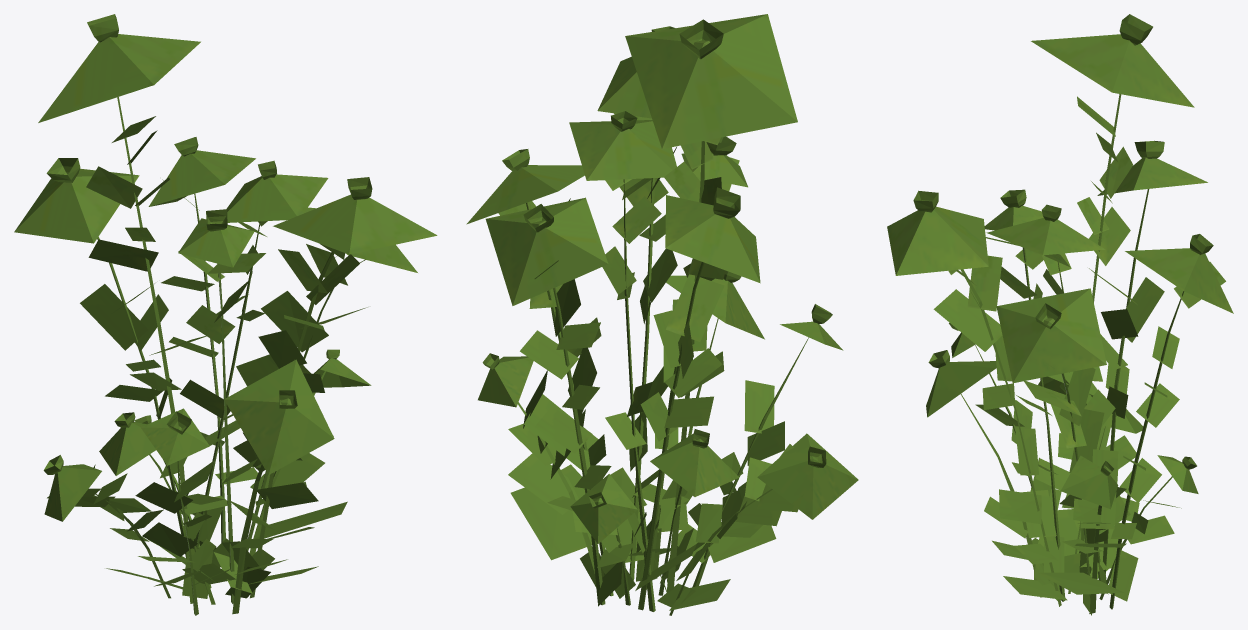
File: City_bujian_48.fbx
3 renders of one model, left to right at view 1: azimuth 30°, elevation 25°; view 2: azimuth 150°, elevation 25°; view 3: azimuth 270°, elevation 25°, orthographic. The views are drawn at different scales.
Parts seen in each view (by area): view 1: pasted__Mesh_0350; view 2: pasted__Mesh_0350; view 3: pasted__Mesh_0350.
Boxes of the visible parts, <box> form: pasted__Mesh_0350: <box>14,14,437,615</box>; pasted__Mesh_0350: <box>466,14,858,615</box>; pasted__Mesh_0350: <box>887,14,1233,615</box>.
Bounding box in the file's own units: 0.735 × 1.19 × 0.69.
